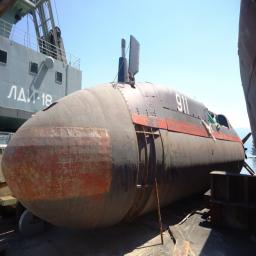submarine: (1, 35, 256, 235)
